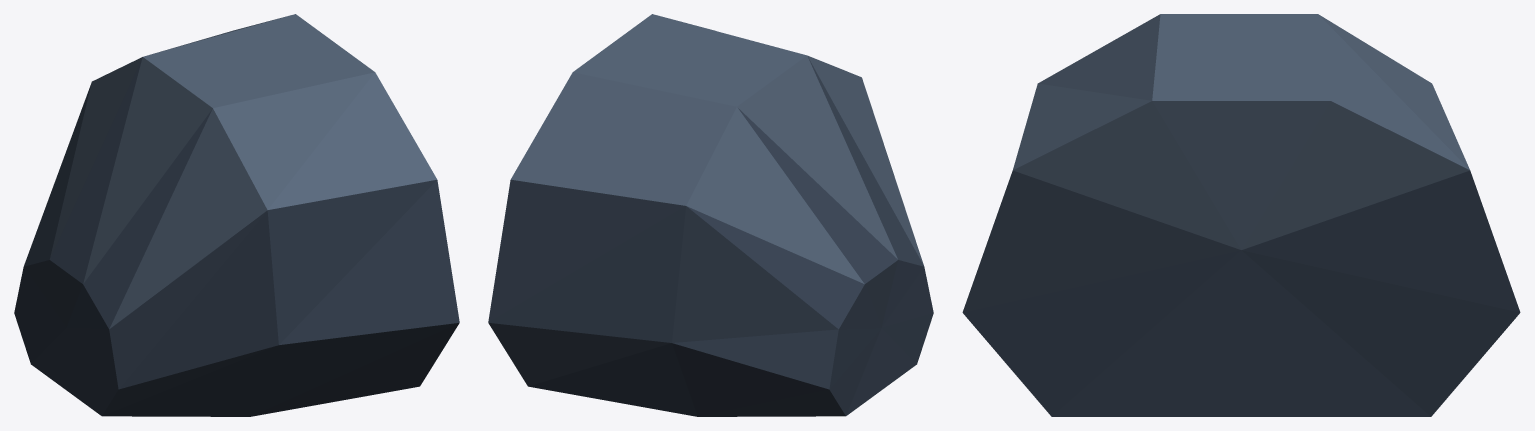
The model's file is ledge_z2_rock_cap_l.glb.
3 renders of one model, left to right at view 1: azimuth 30°, elevation 25°; view 2: azimuth 150°, elevation 25°; view 3: azimuth 270°, elevation 25°, orthographic. The views are drawn at different scales.
Visible parts, largest first — view 1: ledge_z2_rock_cap_l; view 2: ledge_z2_rock_cap_l; view 3: ledge_z2_rock_cap_l.
Boxes of the visible parts, x1,y1,x2,y2 form: ledge_z2_rock_cap_l: [14, 14, 459, 416]; ledge_z2_rock_cap_l: [488, 14, 933, 416]; ledge_z2_rock_cap_l: [962, 14, 1520, 416].
Size of the model in its own units: 1 by 1 by 1.6.
